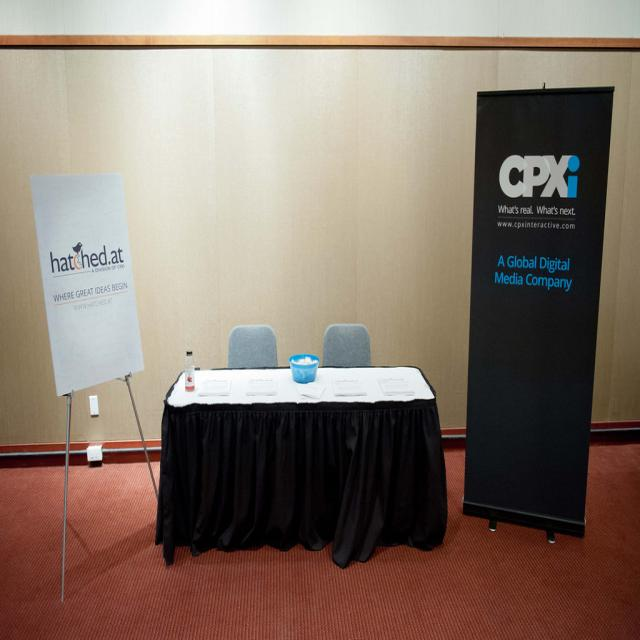chair: (227, 324, 278, 369), (322, 323, 371, 367)
desk: (165, 366, 436, 567)
